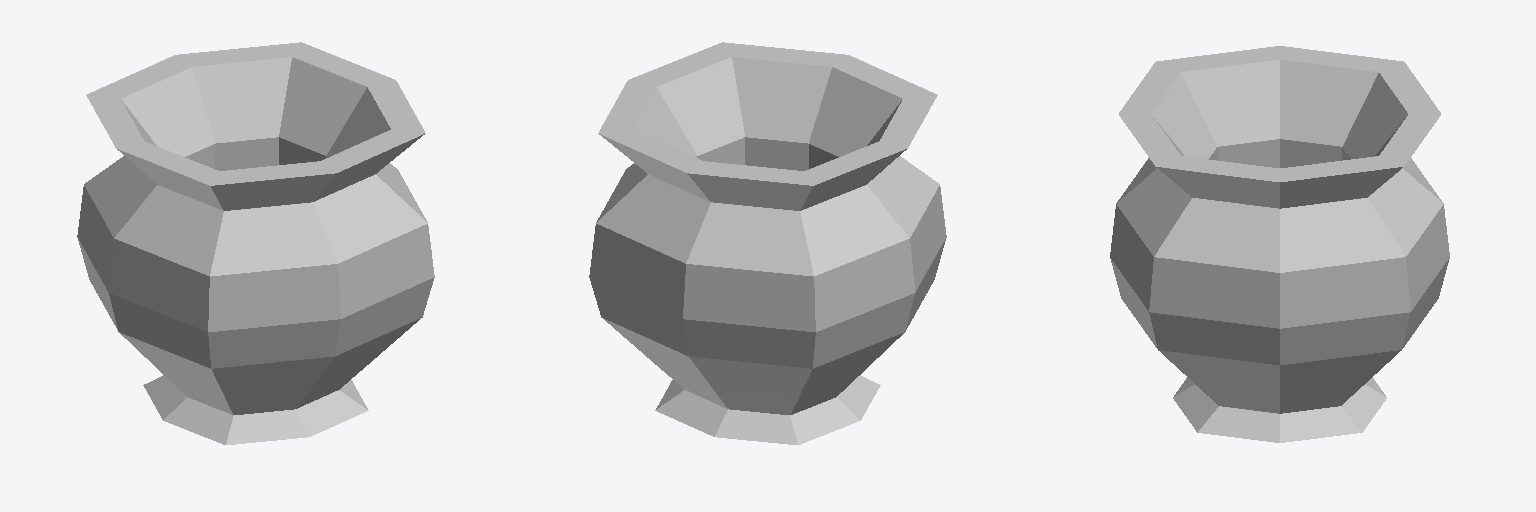
Rendered from pot.obj.
The picture shows the model from 3 angles: view 1: azimuth 30°, elevation 25°; view 2: azimuth 150°, elevation 25°; view 3: azimuth 270°, elevation 25°; orthographic projection.
Parts seen in each view (by area): view 1: Cube.001; view 2: Cube.001; view 3: Cube.001.
Part boxes in pixels (bbox=[...]): Cube.001: bbox=[77, 42, 434, 444]; Cube.001: bbox=[589, 42, 946, 444]; Cube.001: bbox=[1110, 46, 1449, 442].
Bounding box in the file's own units: 2.33 × 2.14 × 2.33.